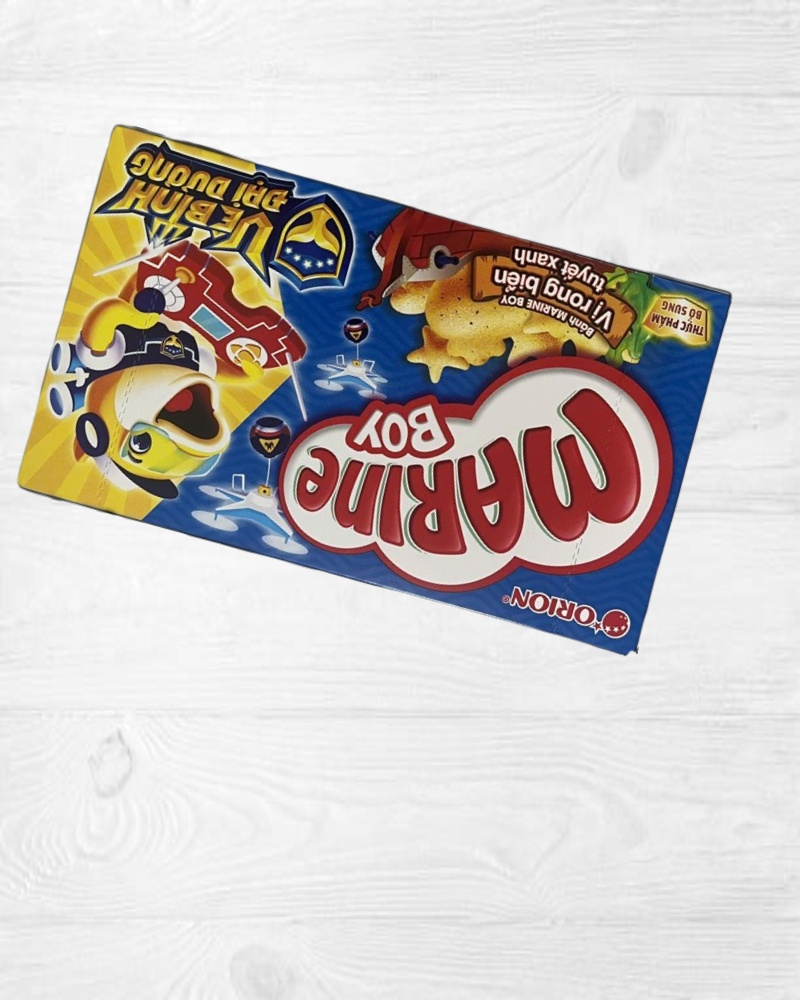Marine: (12, 123, 735, 659)
